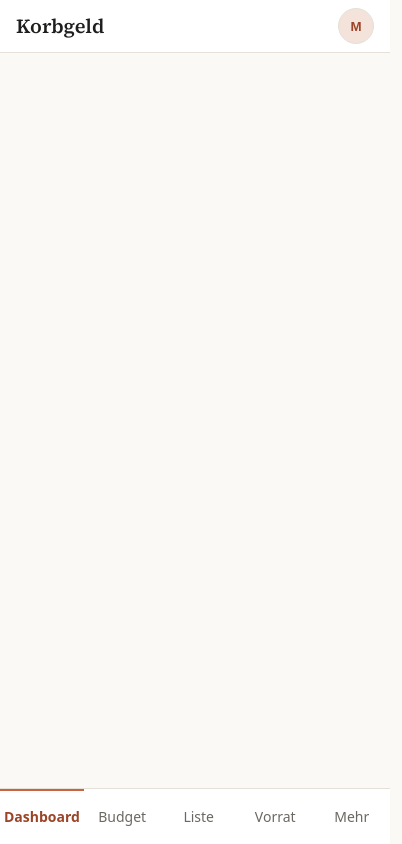
it: AppHeader › Tab-Leiste zeigt die echten Bereiche, „Mehr“ öffnet Demo- und In-Arbeit-Bereiche mit Labels
This screenshot has width=402, height=844.
Click the button "Mehr" at coordinates (352, 816), box [314,789,390,843]
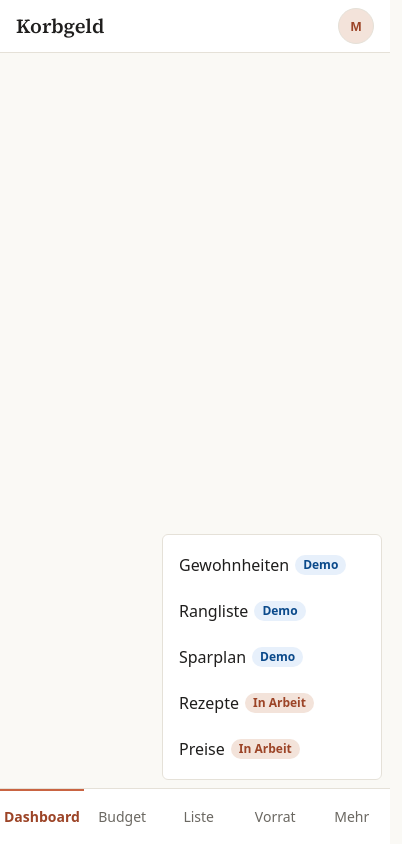
Expected: the element with class "more" shows "Gewohnheiten", [171,543,373,587]
Expected: the element with class "more" shows "Demo", [171,543,373,587]
Expected: the element with class "more" shows "Rezepte", [171,681,373,725]
